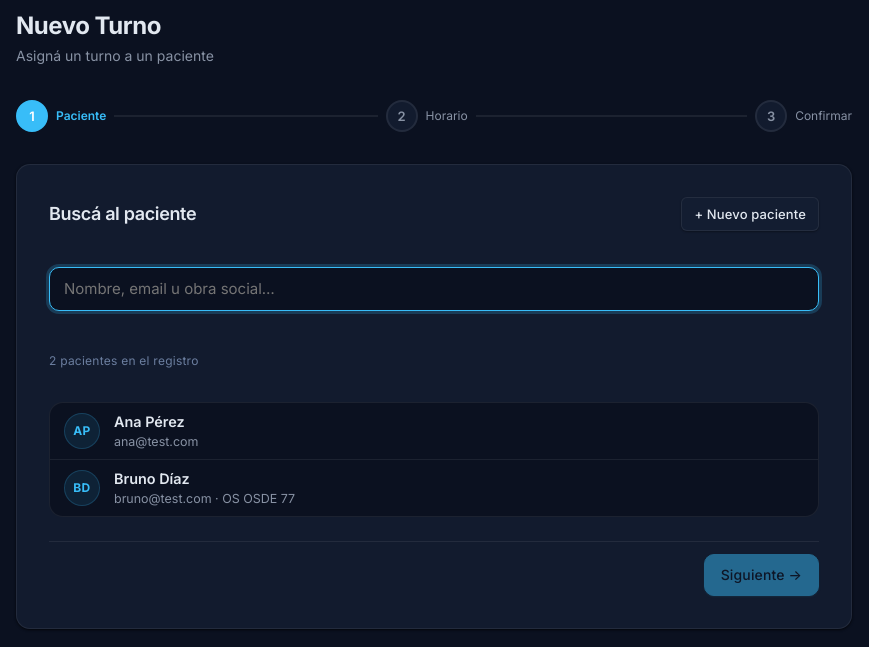
NewAppointmentPage › búsqueda de pacientes existentes › busca en el servidor con el término escrito, una sola vez por pausa
Expected: the text "Ana Pérez" is shown, [114,413,185,430]
Type "osde" into the search field named "buscar paciente" at (434, 289), box [49,267,819,311]
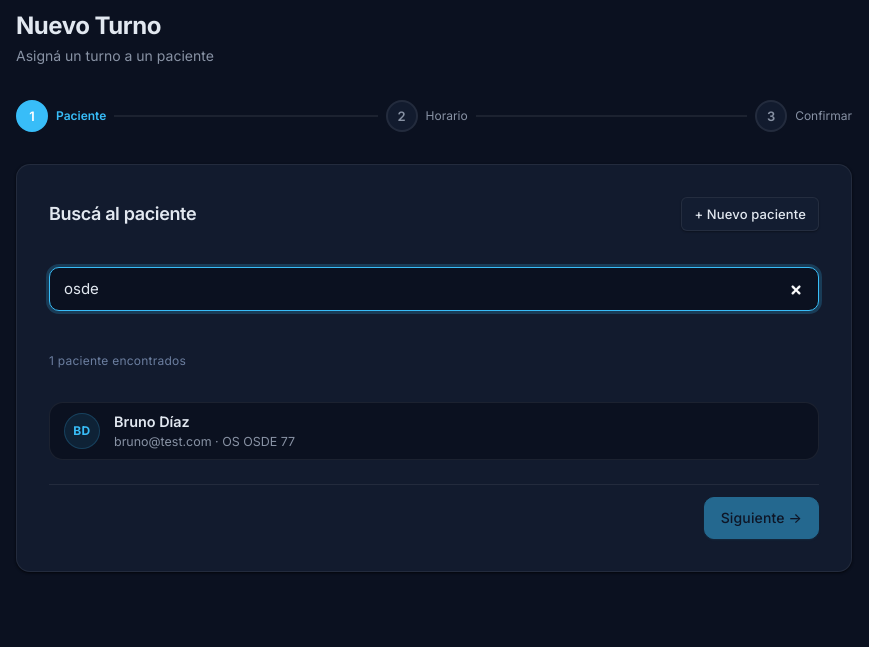
Expected: the text "Bruno Díaz" is shown, [114,413,190,430]
Result: the button "Ana Pérez" is gone
Replace the text in the search field named "buscar paciente" with "perez" at (434, 289), box [49,267,819,311]
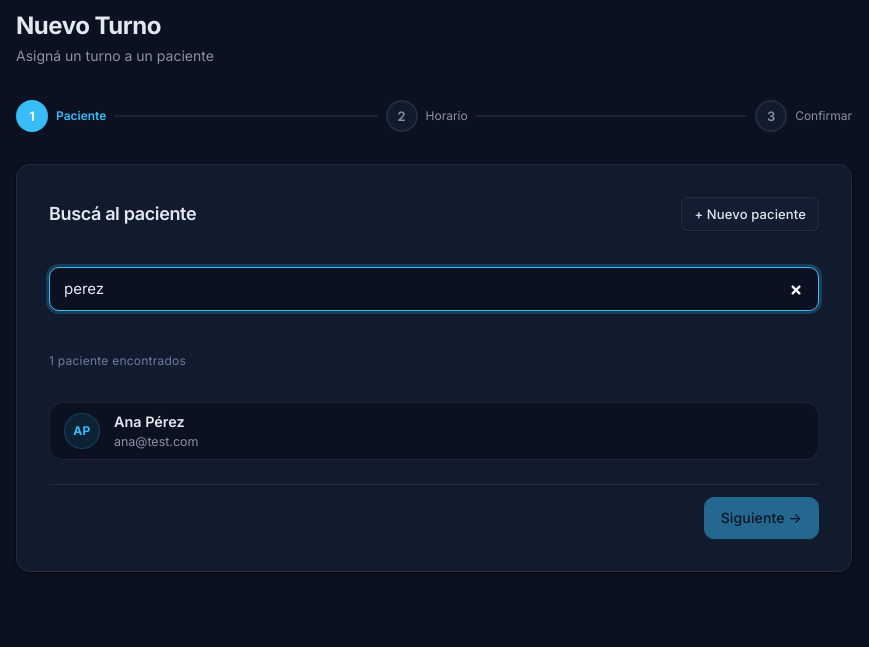
Result: the text "Ana Pérez" is shown at [114,413,185,430]
Result: the button "Bruno Díaz" is gone
